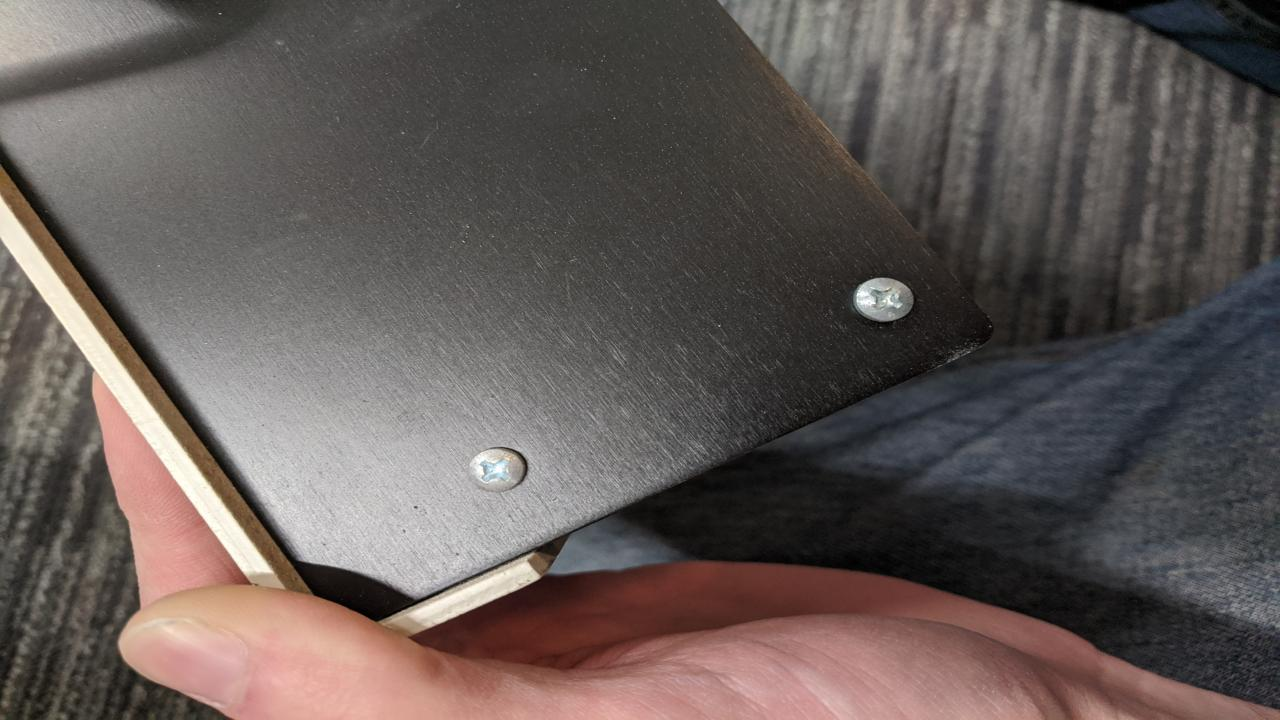CRS: (853, 274, 917, 321), (466, 447, 528, 489)
